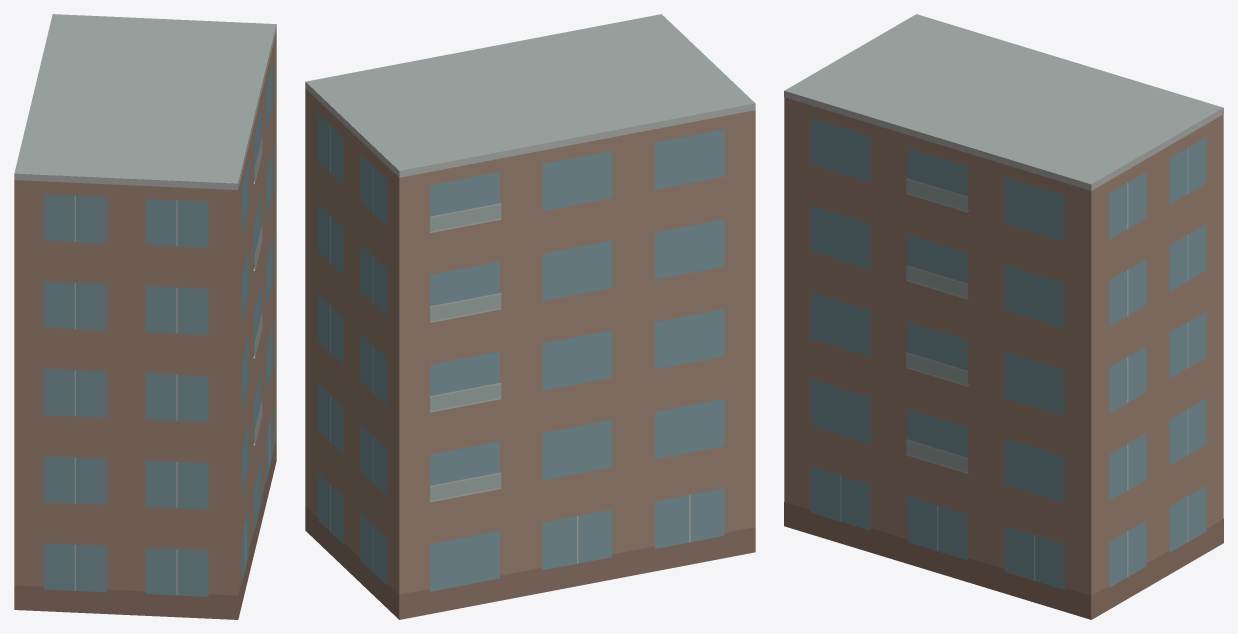
Rendered from survey-upis-32842786.glb.
3 views of the same model, side by side, from view 1: azimuth 30°, elevation 25°; view 2: azimuth 150°, elevation 25°; view 3: azimuth 270°, elevation 25° (orthographic). The views are drawn at different scales.
Visible parts, largest first — view 1: survey-upis-32842786.tmp; view 2: survey-upis-32842786.tmp; view 3: survey-upis-32842786.tmp.
Boxes of the visible parts, <box> form: survey-upis-32842786.tmp: <box>14,14,276,619</box>; survey-upis-32842786.tmp: <box>305,14,755,619</box>; survey-upis-32842786.tmp: <box>784,14,1223,619</box>.
Size of the model in its own units: 13.86 by 16.5 by 15.11.
